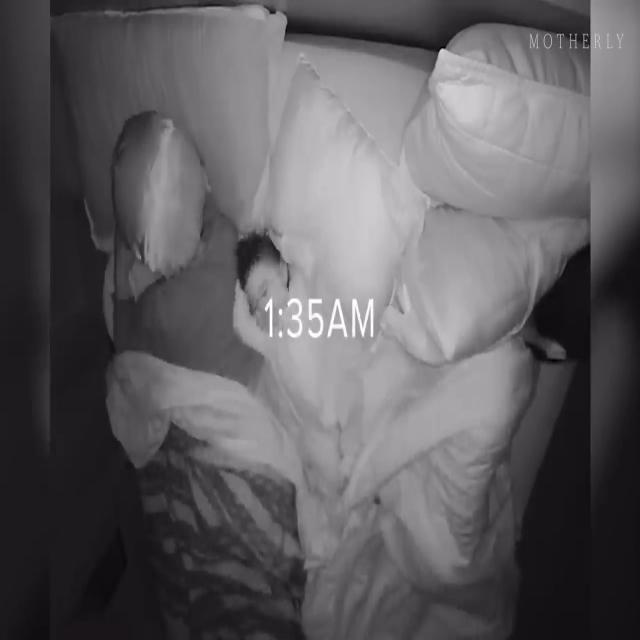baby: (226, 228, 363, 425)
